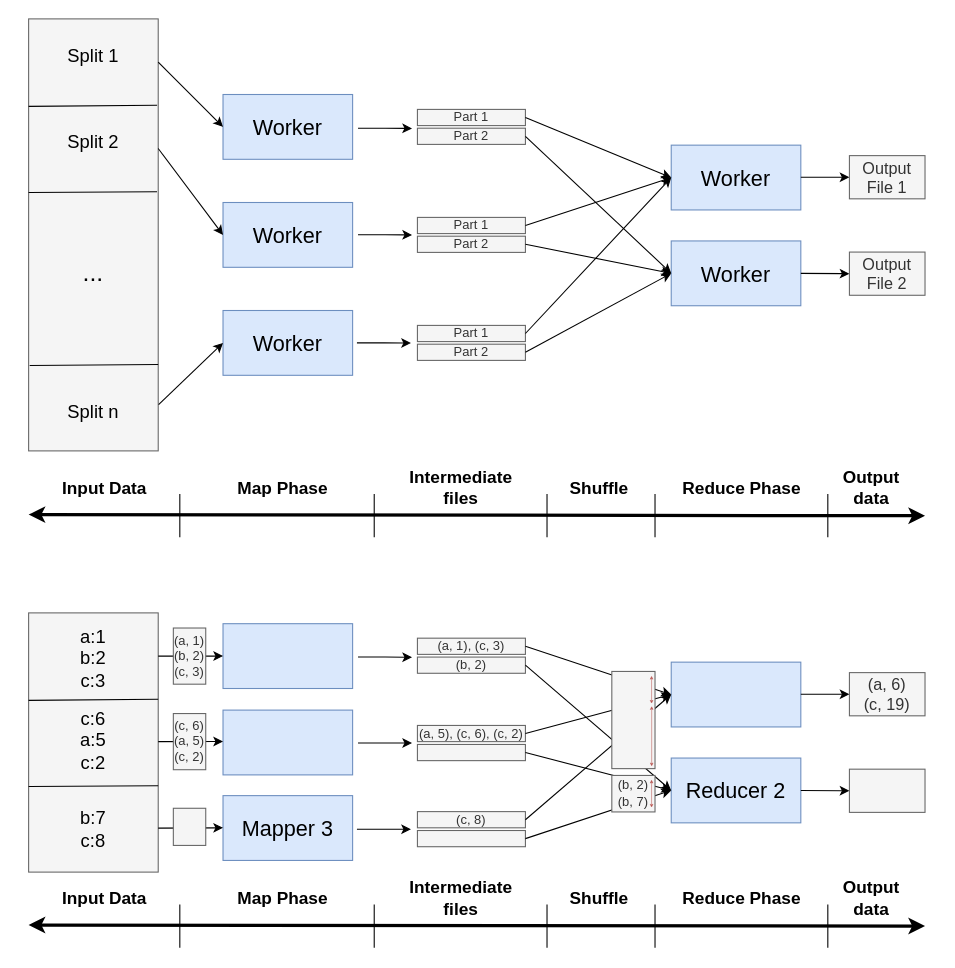
This 955x968 diagram has some shape labels left out. Here are the shapes that lost their labels. From the top down, the box of each, then its label:
(222, 623, 353, 688): Mapper 1
(670, 661, 801, 727): Reducer 1
(611, 670, 655, 769): (a, 1) (a, 5) (c, 3) (c, 6) (c, 2) (c, 8)
(222, 709, 353, 775): Mapper 2
(848, 768, 925, 812): (b, 9)
(172, 807, 206, 845): (b, 7) (c, 8)
(416, 829, 525, 847): (b, 7)
